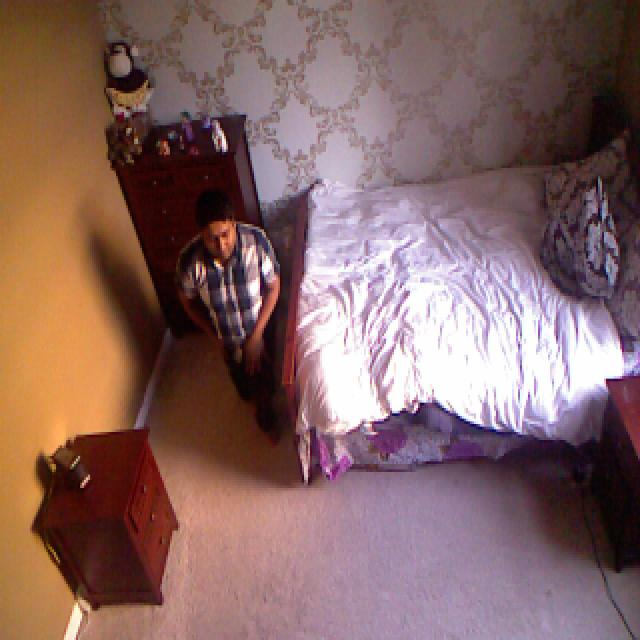crawling: (166, 188, 284, 450)
